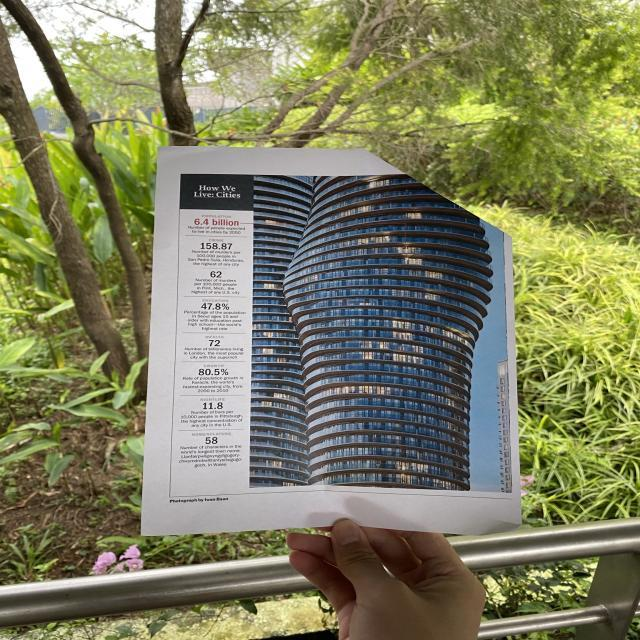document: (142, 146, 520, 534)
